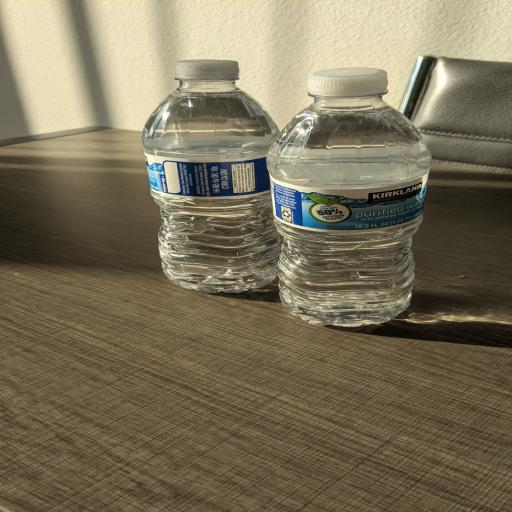waterbottle: (269, 69, 430, 326), (143, 60, 278, 292)
